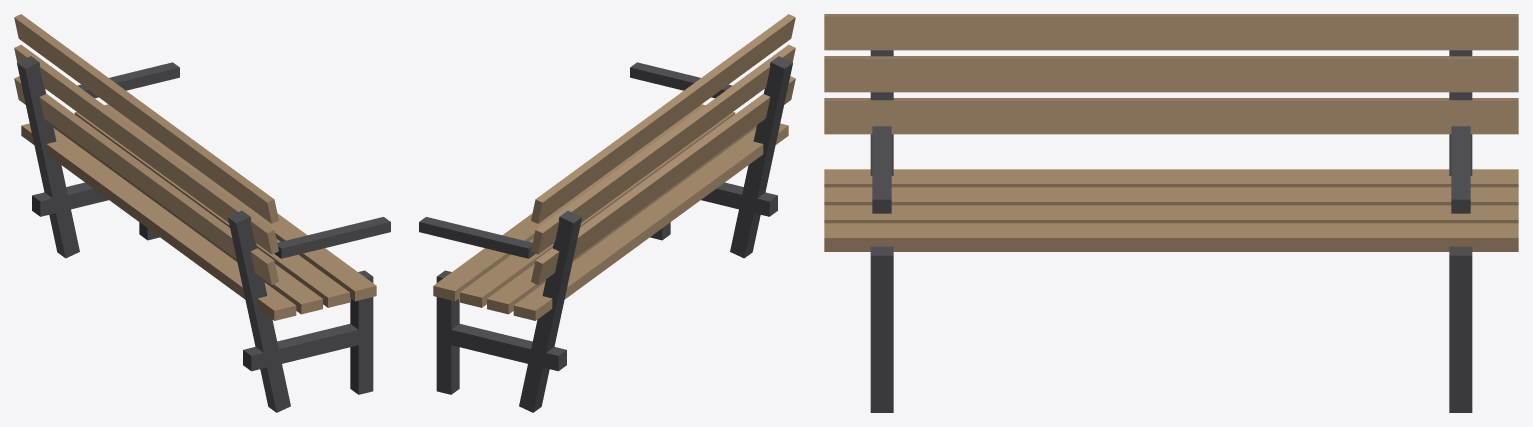
Rendered from SM_Prop_ParkBench.glb.
3 renders of one model, left to right at view 1: azimuth 30°, elevation 25°; view 2: azimuth 150°, elevation 25°; view 3: azimuth 270°, elevation 25°, orthographic. The views are drawn at different scales.
Visible parts, largest first — view 1: SM_Prop_ParkBench; view 2: SM_Prop_ParkBench; view 3: SM_Prop_ParkBench.
Part boxes in pixels (x1,y1,x2,y2): SM_Prop_ParkBench: (14, 14, 390, 412); SM_Prop_ParkBench: (419, 14, 795, 412); SM_Prop_ParkBench: (824, 14, 1518, 412).
Bounding box in the file's own units: 0.6375 × 0.9121 × 1.8.
